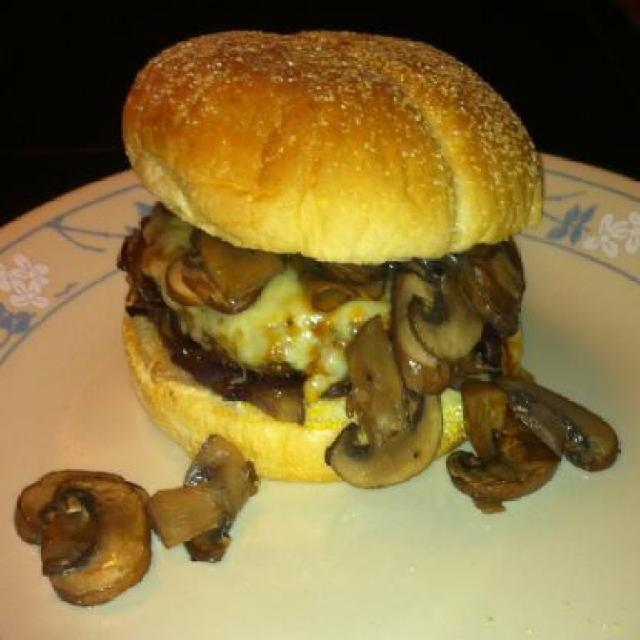Hamburger: (112, 32, 544, 490)
